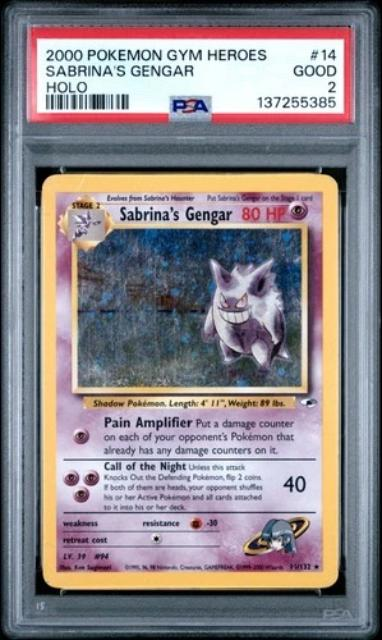Card: (36, 168, 345, 594)
Name: (116, 203, 237, 228)
